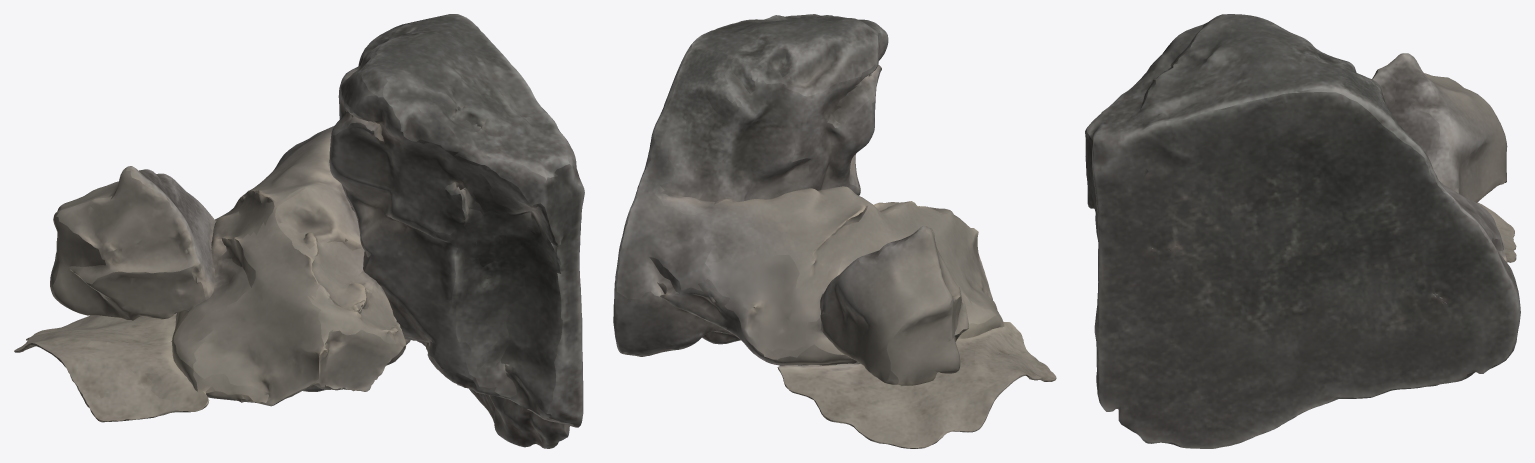
3 views of the same model, side by side, from view 1: azimuth 30°, elevation 25°; view 2: azimuth 150°, elevation 25°; view 3: azimuth 270°, elevation 25° (orthographic). The views are drawn at different scales.
Parts seen in each view (by area): view 1: world; view 2: world; view 3: world.
Boxes of the visible parts, <box> form: world: <box>14,14,584,448</box>; world: <box>613,14,1056,448</box>; world: <box>1085,14,1520,448</box>.
Bounding box in the file's own units: 1.59 × 1.5 × 1.59.
1 material, 1 textured.
